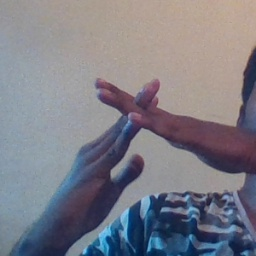W: (72, 64, 197, 203)
